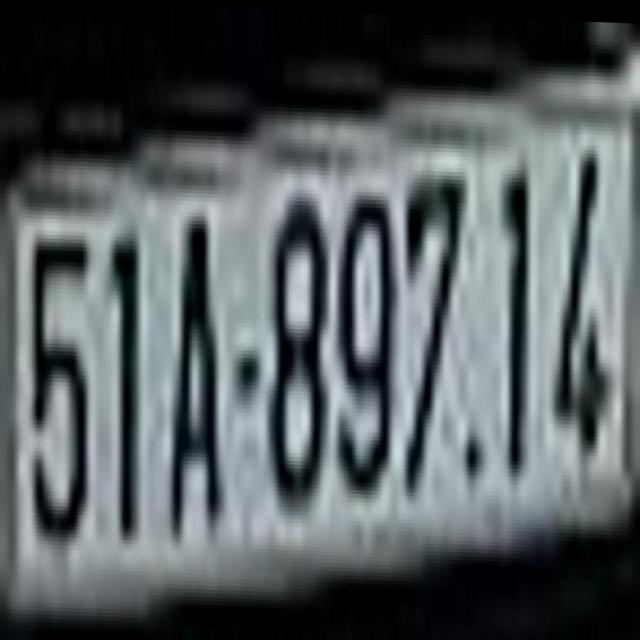1: (494, 138, 528, 488), (109, 201, 140, 559)
4: (556, 125, 620, 484)
5: (31, 222, 89, 558)
7: (402, 163, 466, 499)
8: (268, 178, 328, 514)
9: (332, 180, 392, 504)
A: (169, 195, 225, 542)
